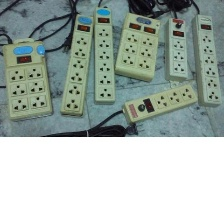three_eye_plug: (0, 35, 56, 124), (56, 11, 98, 121), (112, 9, 164, 85), (120, 82, 201, 127), (87, 4, 118, 107), (190, 13, 223, 108), (161, 14, 190, 84)
